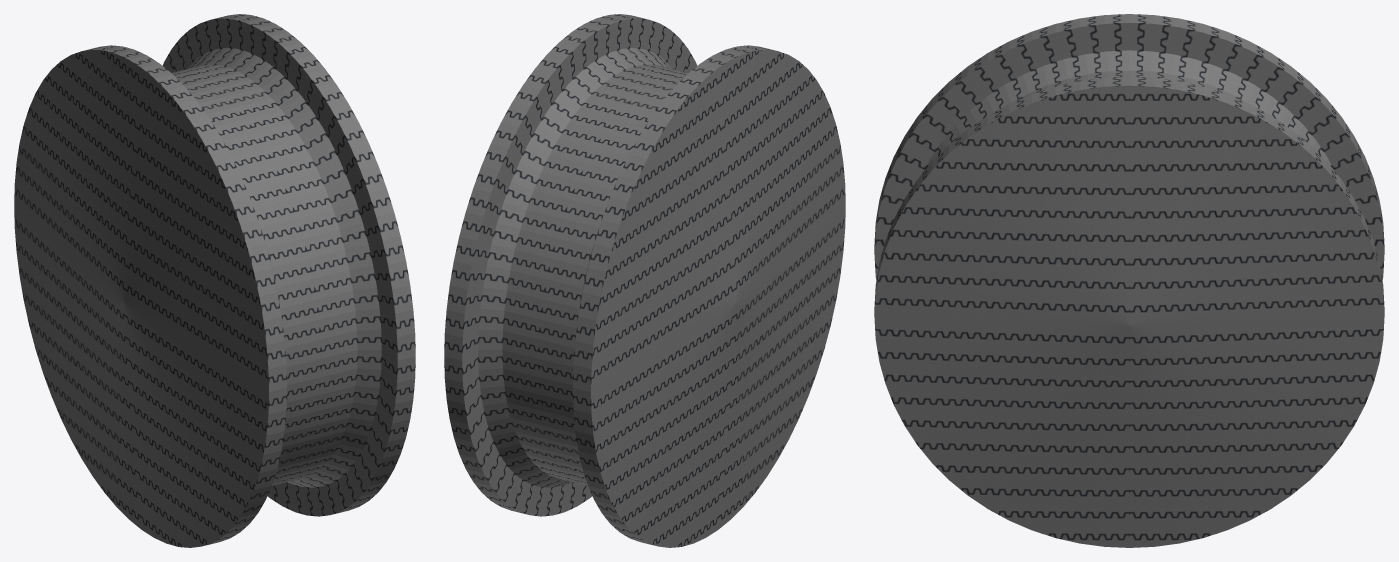
The model's file is Shooter_BG.obj.
3 views of the same model, side by side, from view 1: azimuth 30°, elevation 25°; view 2: azimuth 150°, elevation 25°; view 3: azimuth 270°, elevation 25° (orthographic).
Parts seen in each view (by area): view 1: Cylinder_BG_Cylinder.004; view 2: Cylinder_BG_Cylinder.004; view 3: Cylinder_BG_Cylinder.004.
Boxes of the visible parts, x1,y1,x2,y2 form: Cylinder_BG_Cylinder.004: (14, 14, 415, 547); Cylinder_BG_Cylinder.004: (444, 14, 845, 547); Cylinder_BG_Cylinder.004: (874, 14, 1384, 547).
Size of the model in its own units: 0.7871 by 1.92 by 1.92.
